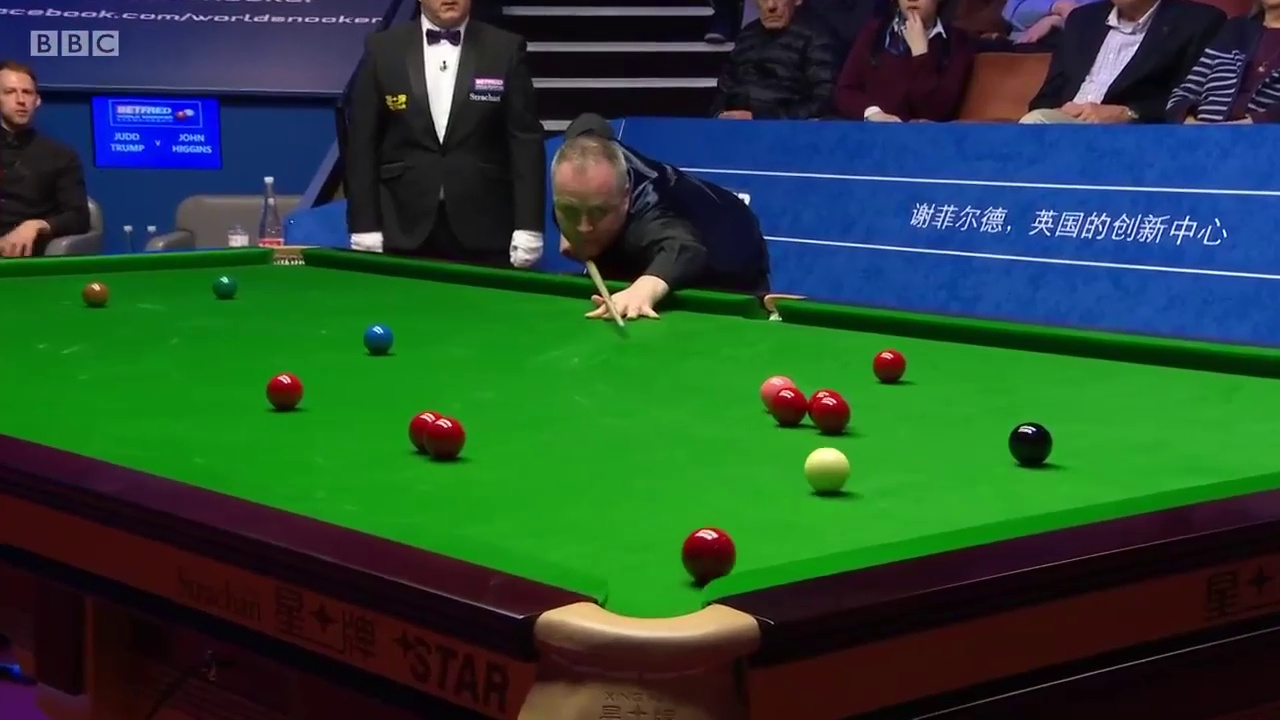ball: (681, 525, 734, 577), (803, 447, 851, 495), (1008, 422, 1051, 469), (424, 415, 463, 462), (263, 372, 301, 406), (361, 322, 393, 354), (873, 350, 904, 378), (209, 272, 237, 298)
